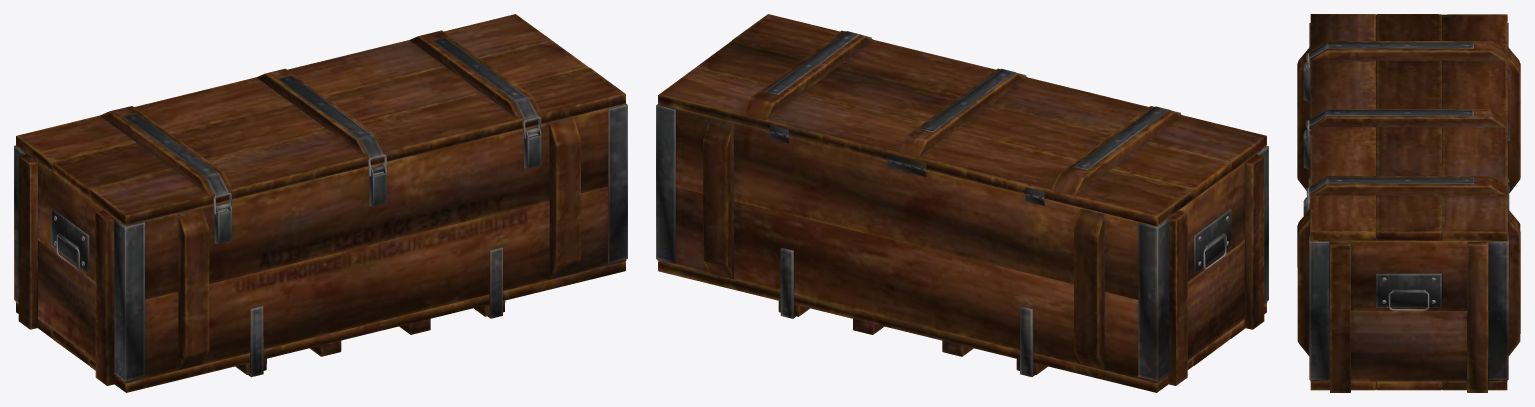
File: wooden_military_crate.glb
3 views of the same model, side by side, from view 1: azimuth 30°, elevation 25°; view 2: azimuth 150°, elevation 25°; view 3: azimuth 270°, elevation 25° (orthographic). The views are drawn at different scales.
Visible parts, largest first — view 1: wooden_military_crate, wooden_military_crate_lid; view 2: wooden_military_crate, wooden_military_crate_lid; view 3: wooden_military_crate_lid, wooden_military_crate.
Boxes of the visible parts, box(x1,y1,x2,y2) form: wooden_military_crate: box(14, 103, 627, 392); wooden_military_crate_lid: box(16, 14, 625, 225); wooden_military_crate: box(656, 104, 1268, 392); wooden_military_crate_lid: box(658, 14, 1266, 225); wooden_military_crate_lid: box(1306, 14, 1509, 240); wooden_military_crate: box(1297, 23, 1520, 392).
Bounding box in the file's own units: 1.24 × 0.4639 × 0.5198.
1 material, 1 textured.
